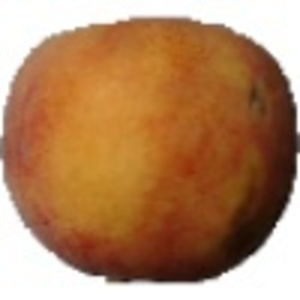pêssego: (1, 15, 300, 287)
